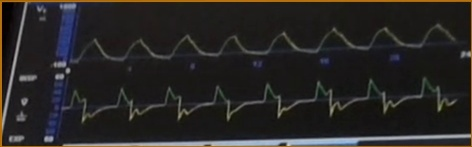Premature_cycling Flow: (66, 75, 459, 132)
Premature_cycling Volume: (77, 11, 457, 64)
